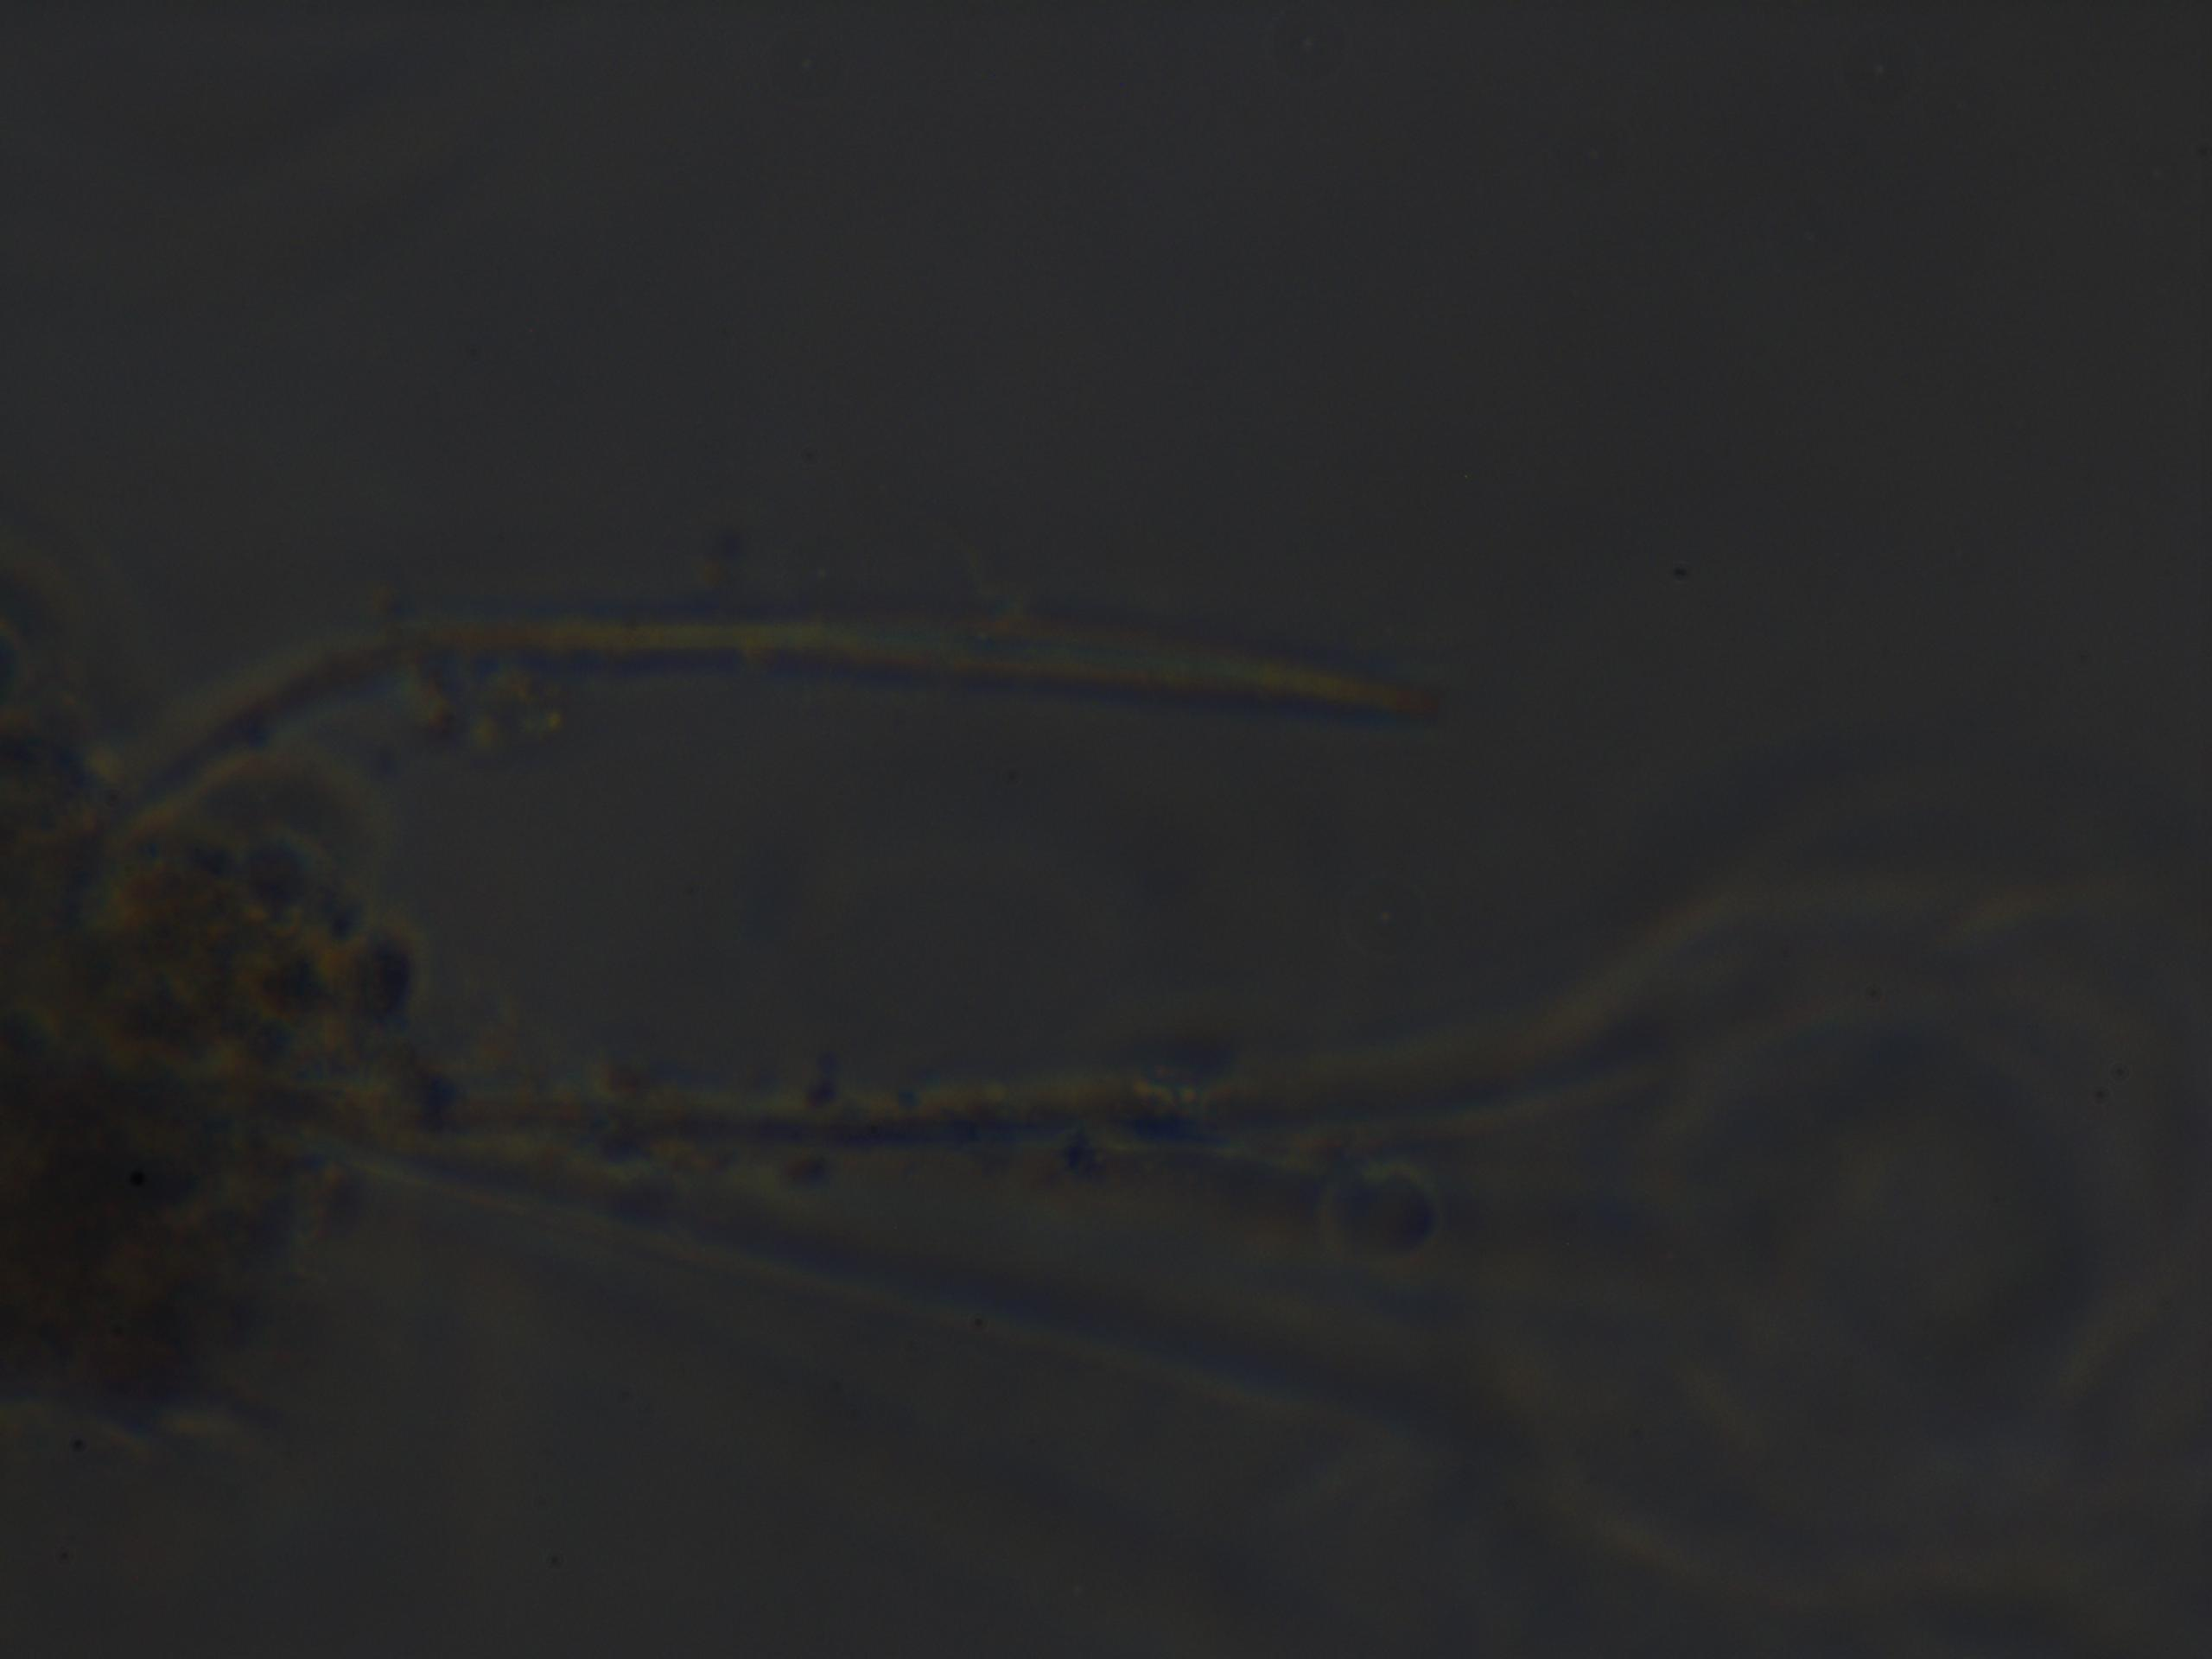filament: (12, 575, 1524, 798), (418, 1063, 1536, 1243)
